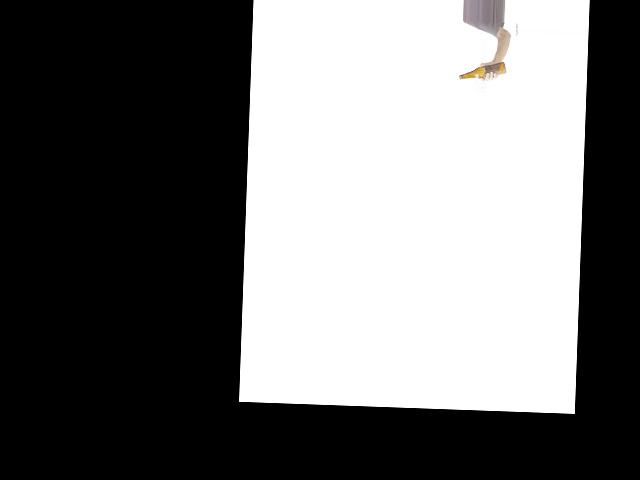beer: (459, 59, 507, 81)
